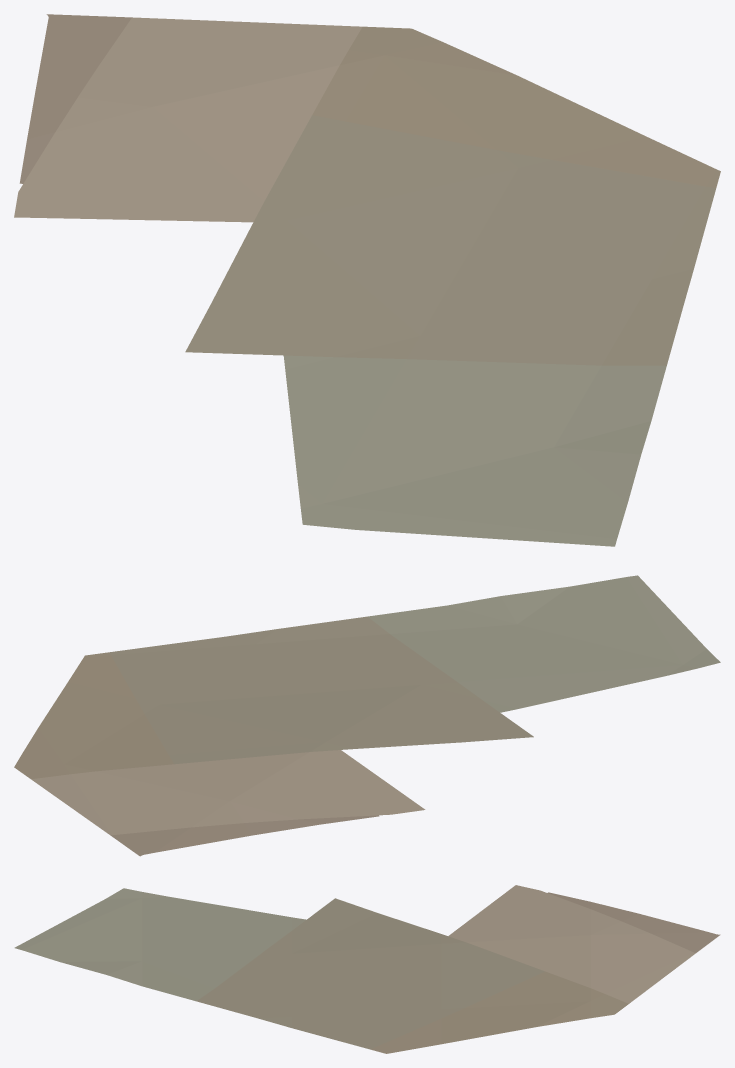
File: farm_6_-2_soil.glb
3 views of the same model, one above another, from view 1: azimuth 30°, elevation 25°; view 2: azimuth 150°, elevation 25°; view 3: azimuth 270°, elevation 25° (orthographic). The views are drawn at different scales.
Parts seen in each view (by area): view 1: geometry_0; view 2: geometry_0; view 3: geometry_0.
Boxes of the visible parts, x1,y1,x2,y2 form: geometry_0: (14, 14, 720, 546); geometry_0: (14, 575, 720, 856); geometry_0: (14, 885, 720, 1053).
Size of the model in its own units: 226 by 18.07 by 378.
